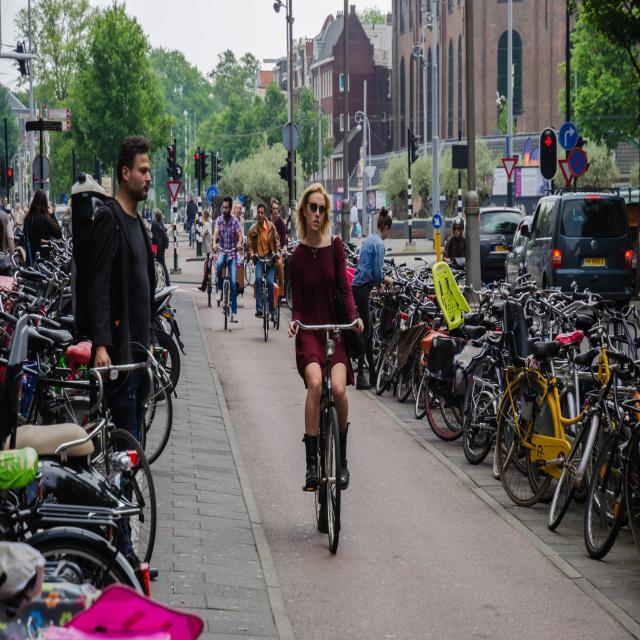bicycle: (289, 183, 364, 551), (248, 202, 281, 339), (212, 197, 244, 330)
car: (525, 189, 631, 306)
